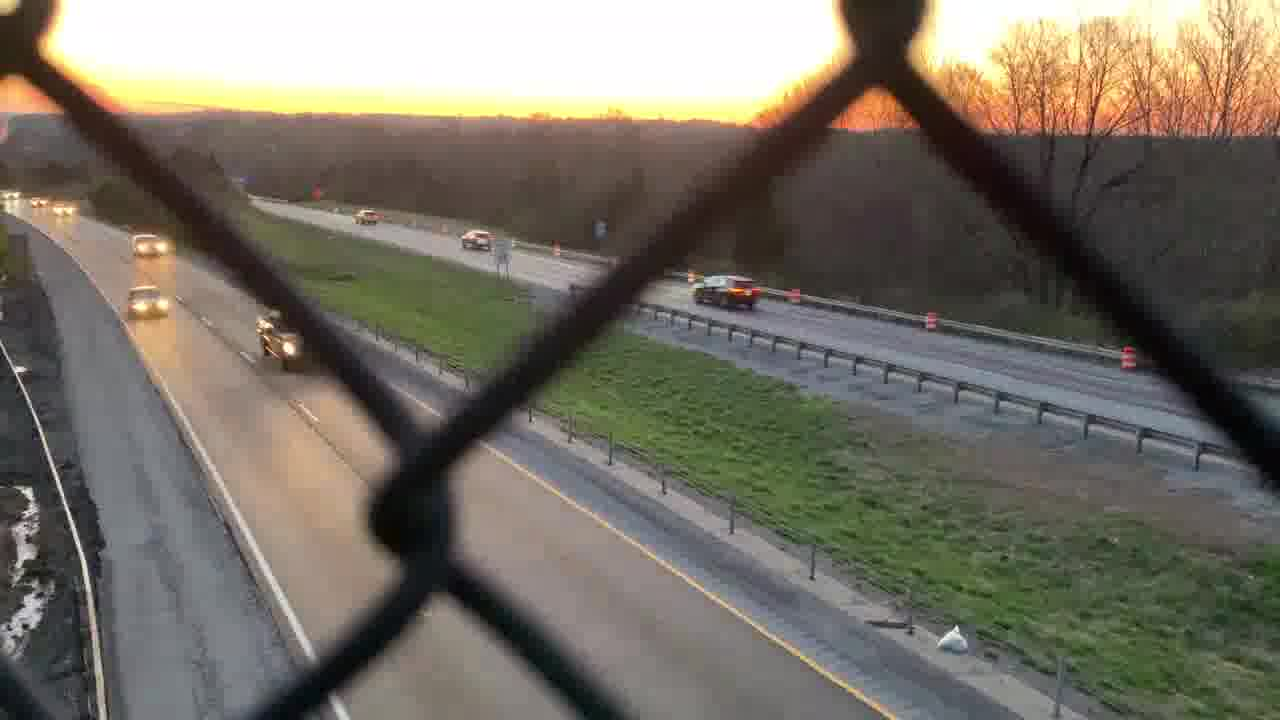largeCar: (693, 274, 766, 313), (457, 229, 496, 252), (353, 206, 381, 227)
lightTruck: (251, 305, 332, 374)
smallCar: (125, 276, 170, 325)
vehicle: (126, 227, 169, 260), (50, 200, 76, 217), (2, 185, 21, 206), (27, 197, 45, 208)
